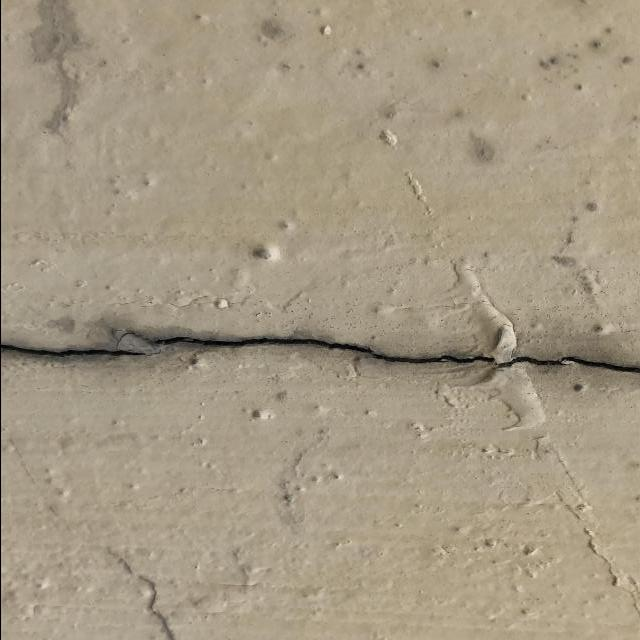SurfaceCrack: (0, 277, 639, 413)
